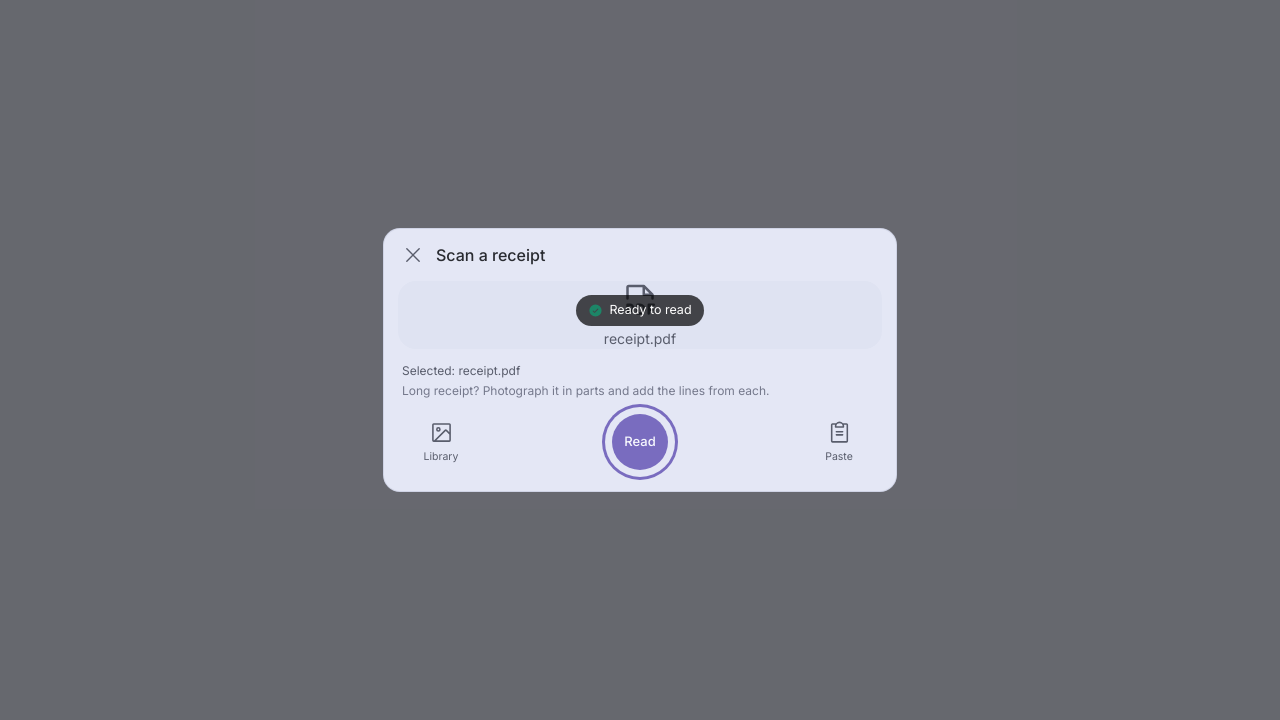
Scenario: ReceiptScanner paste › treats a PDF pasted via clipboardData.files as a raw upload
This screenshot has width=1280, height=720.
Check: the text "Selected: receipt.pdf" is shown, box [402,363,520,378]
Click the button with aria-label "read this receipt": [640, 442] box [605,407,675,477]
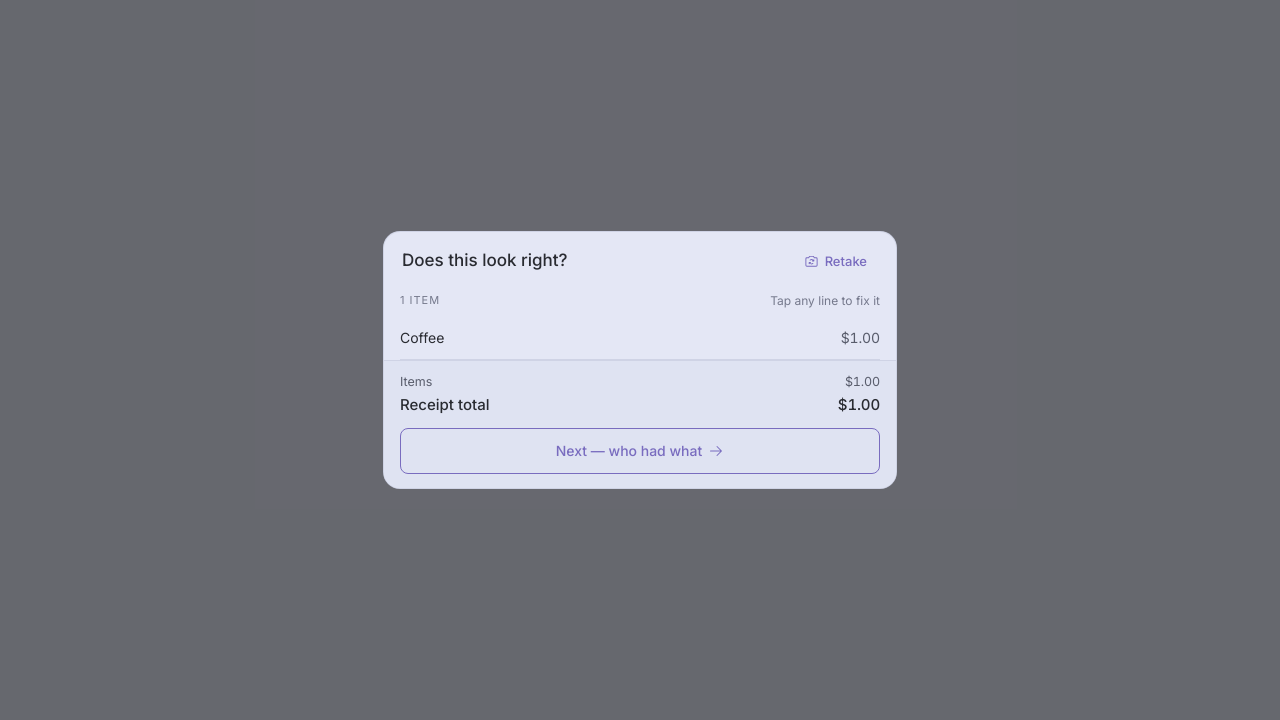
Check: the text "Tap any line to fix it" is shown, box [770,292,880,308]
